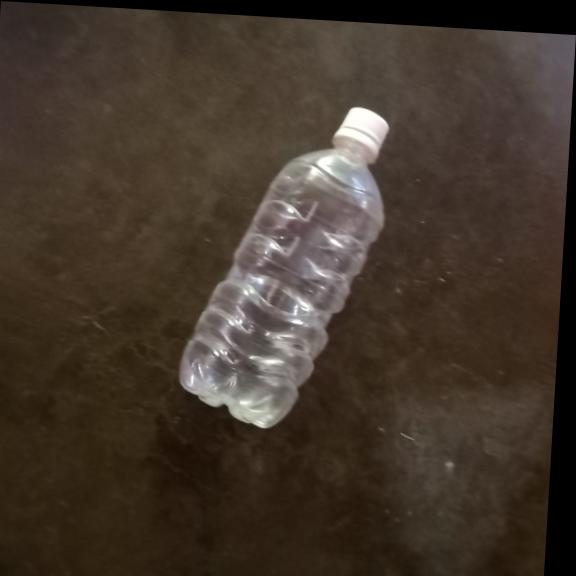Plastik: (174, 95, 391, 432)
